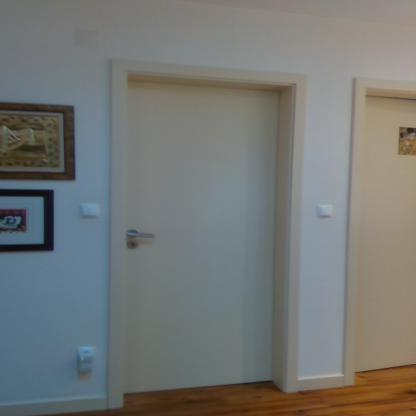door: (123, 80, 285, 383), (365, 94, 415, 376)
lever: (130, 231, 158, 238)
